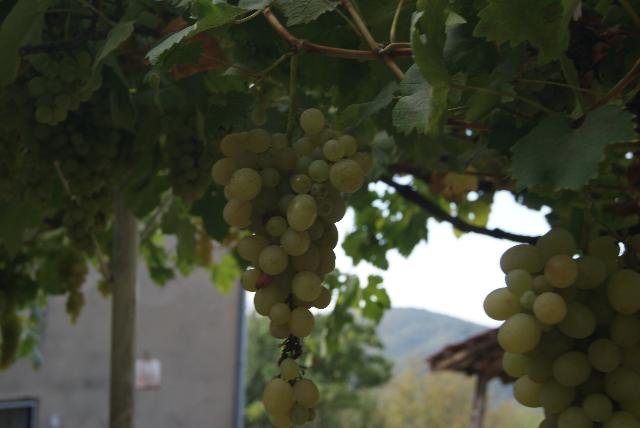grapes: (211, 109, 372, 428), (484, 228, 640, 428)
